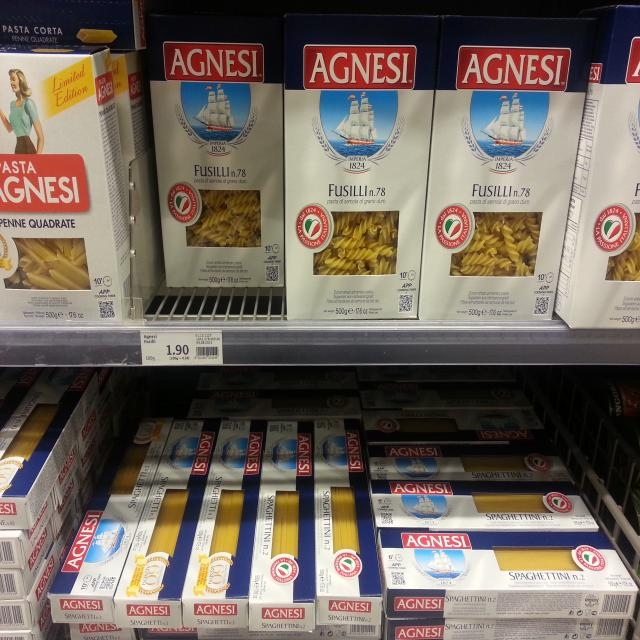Pasta: (421, 6, 596, 326), (288, 12, 442, 321), (0, 42, 131, 327), (148, 27, 286, 290), (555, 9, 640, 331), (49, 413, 175, 629), (117, 399, 223, 626), (378, 530, 622, 617), (181, 399, 268, 625), (0, 370, 100, 527), (248, 415, 316, 632), (318, 411, 385, 622), (372, 476, 600, 528), (366, 442, 573, 480)
